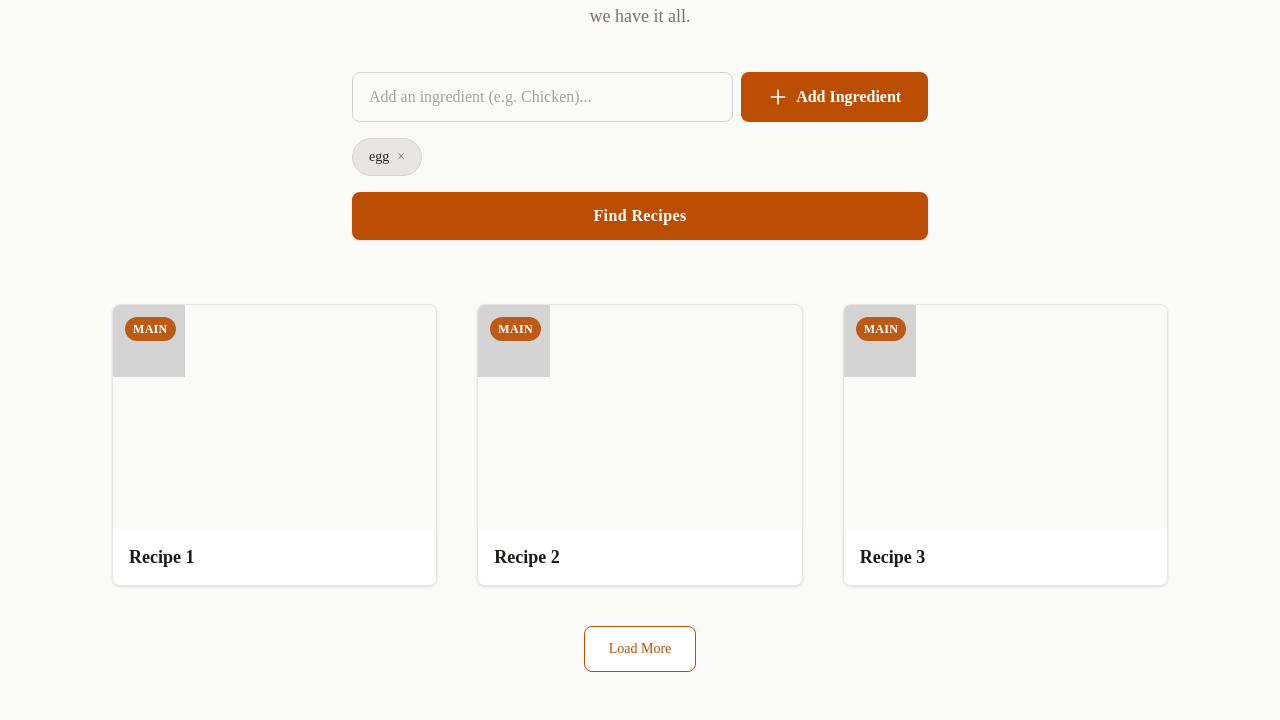
it: Mobile recipe accumulation › hides the LoadMoreButton once the last page is appended
(page scrolled)
Click the button "Load More" at (640, 649), box [584,626,696,672]
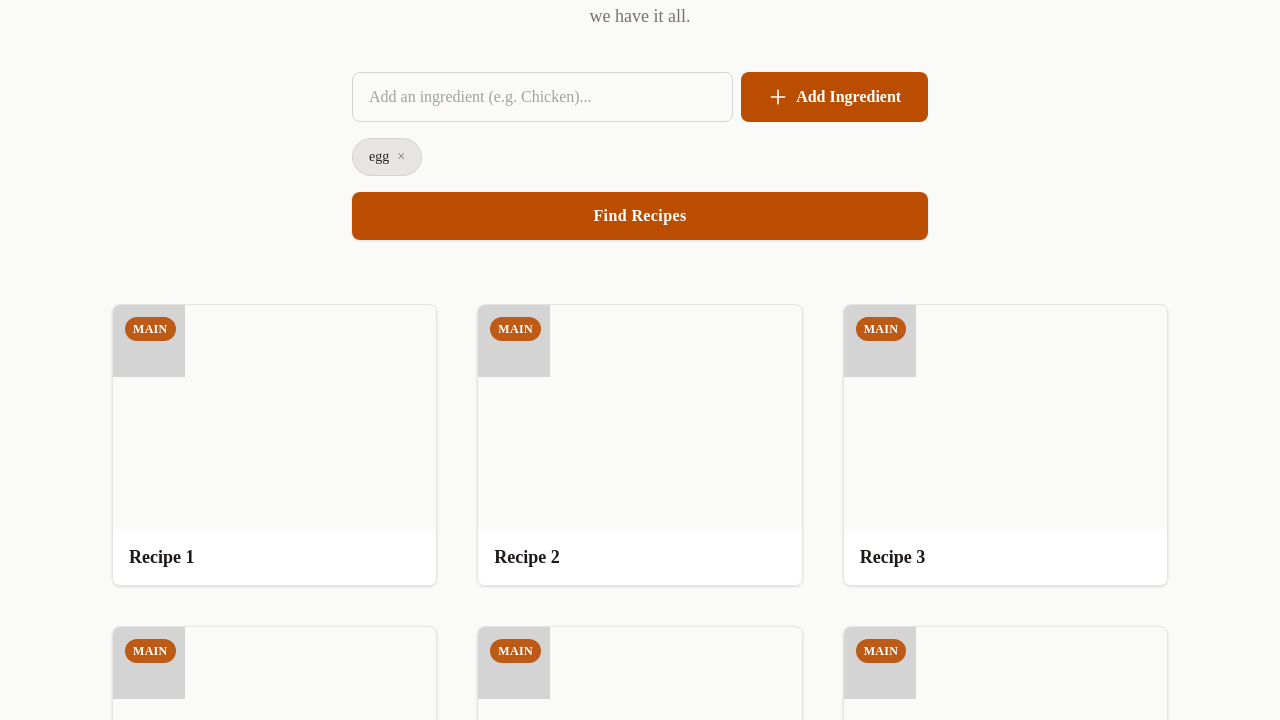
Check: the button "Load More" is gone
